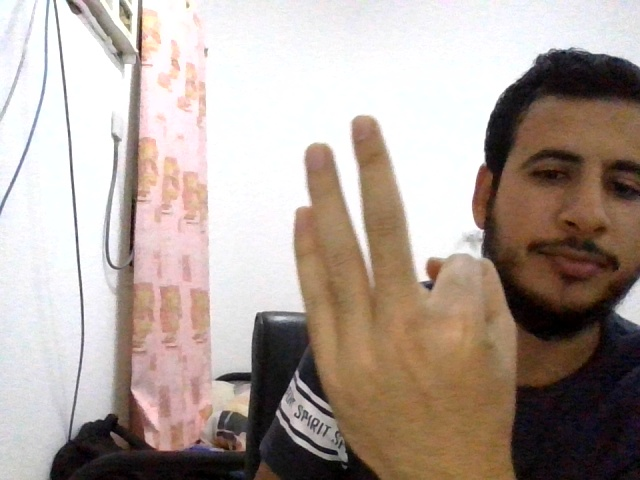Three: (293, 115, 525, 480)
